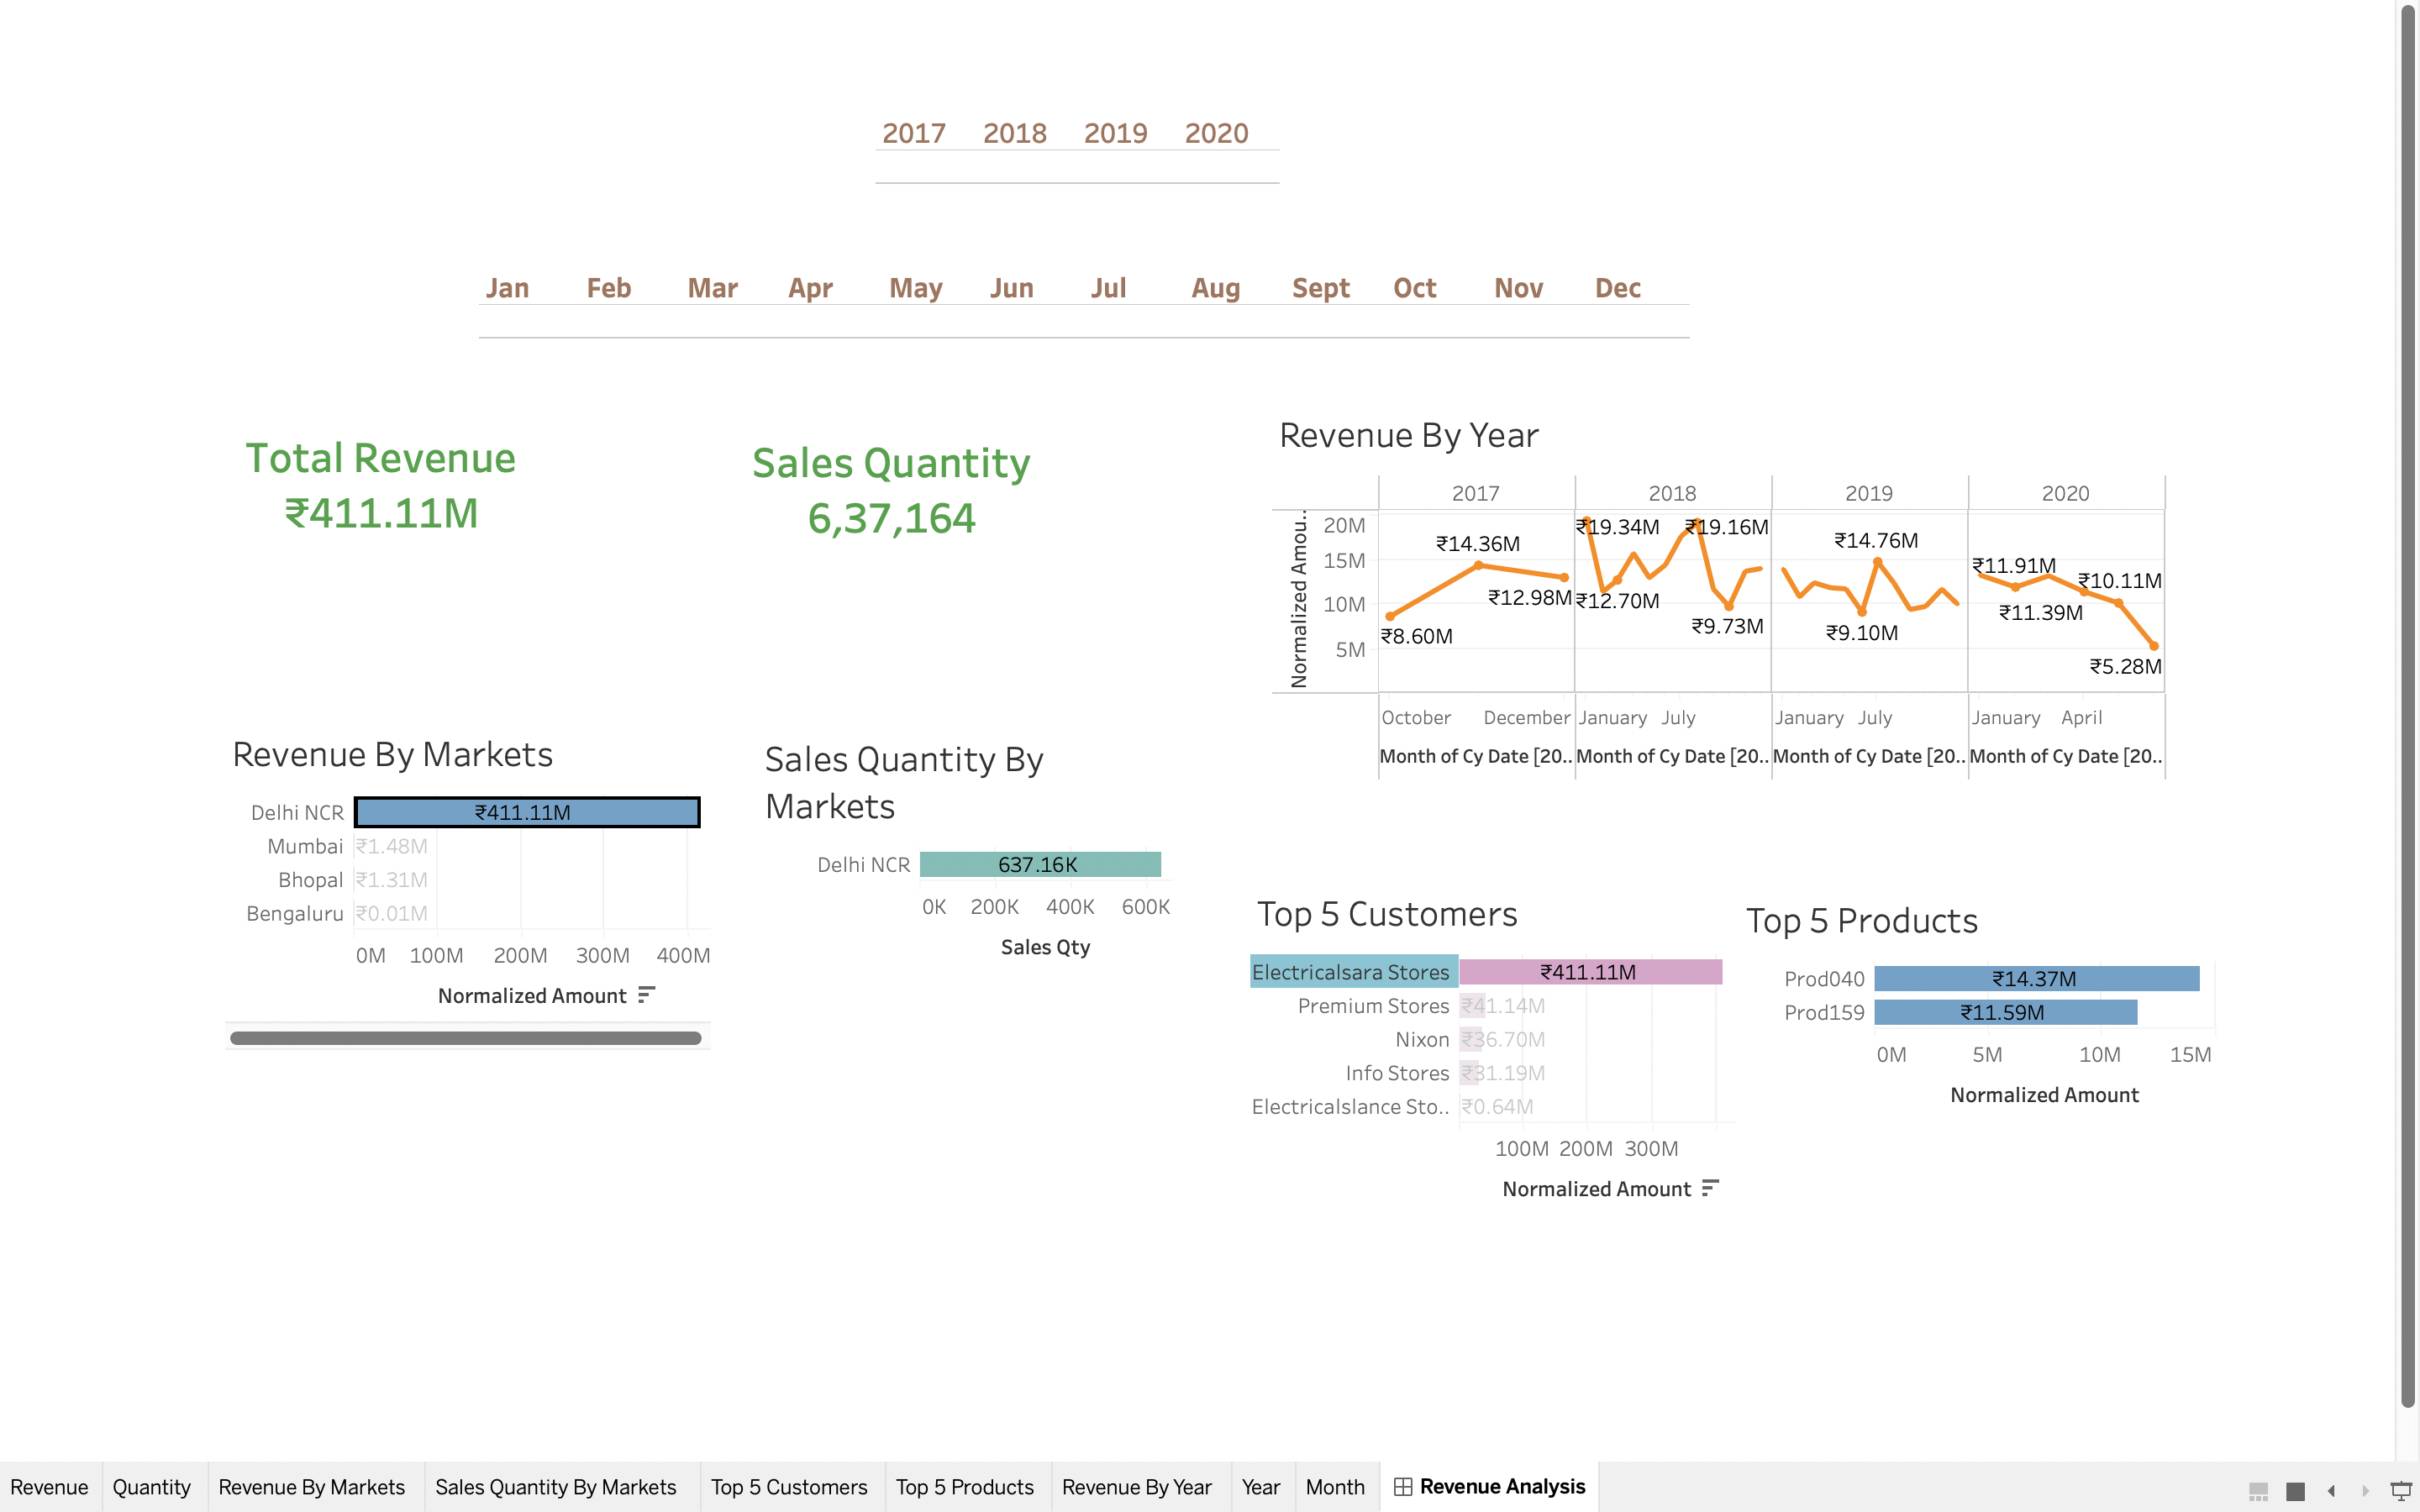

What the dashboard file says about the page in this screenshot:
{"tool":"tableau","page":{"name":"Revenue Analysis","canvas":[1200,900],"ordinal":0},"visuals":[{"type":"worksheet","title":"Year","mark":"Automatic","cols":["cy_date"],"box":[391,15,305,95]},{"type":"worksheet","title":"Month","mark":"Automatic","cols":["cy_date"],"box":[166,96,837,74]},{"type":"worksheet","title":"Revenue","mark":"Automatic","box":[35,184,264,143]},{"type":"worksheet","title":"Revenue By Year","mark":"Automatic","rows":["Calculation_4874372569682710528"],"cols":["cy_date","cy_date"],"box":[606,186,532,225]},{"type":"worksheet","title":"Quantity","mark":"Automatic","box":[332,198,242,97]},{"type":"worksheet","title":"Sales Quantity By Markets","mark":"Automatic","rows":["markets_name"],"cols":["sales_qty"],"box":[334,333,247,479]},{"type":"worksheet","title":"Revenue By Markets","mark":"Automatic","rows":["markets_name"],"cols":["Calculation_4874372569682710528"],"box":[23,336,289,486]},{"type":"worksheet","title":"Top 5 Customers","mark":"Automatic","rows":["custmer_name"],"cols":["Calculation_4874372569682710528"],"box":[632,467,289,299]},{"type":"worksheet","title":"Top 5 Products","mark":"Automatic","rows":["product_code (products)"],"cols":["Calculation_4874372569682710528"],"box":[920,470,284,299]}]}

Visuals, with their boxes on the page's 1200x900 design canvas (x1, y1, x2, y2). These are canvas units, not pixel positions in the 2420x1512 screenshot, which may show the page scaled, cropped or inside an application window:
"Year" worksheet: {"left": 391, "top": 15, "right": 696, "bottom": 110}
"Month" worksheet: {"left": 166, "top": 96, "right": 1003, "bottom": 170}
"Revenue" worksheet: {"left": 35, "top": 184, "right": 299, "bottom": 327}
"Revenue By Year" worksheet: {"left": 606, "top": 186, "right": 1138, "bottom": 411}
"Quantity" worksheet: {"left": 332, "top": 198, "right": 574, "bottom": 295}
"Sales Quantity By Markets" worksheet: {"left": 334, "top": 333, "right": 581, "bottom": 812}
"Revenue By Markets" worksheet: {"left": 23, "top": 336, "right": 312, "bottom": 822}
"Top 5 Customers" worksheet: {"left": 632, "top": 467, "right": 921, "bottom": 766}
"Top 5 Products" worksheet: {"left": 920, "top": 470, "right": 1204, "bottom": 769}
